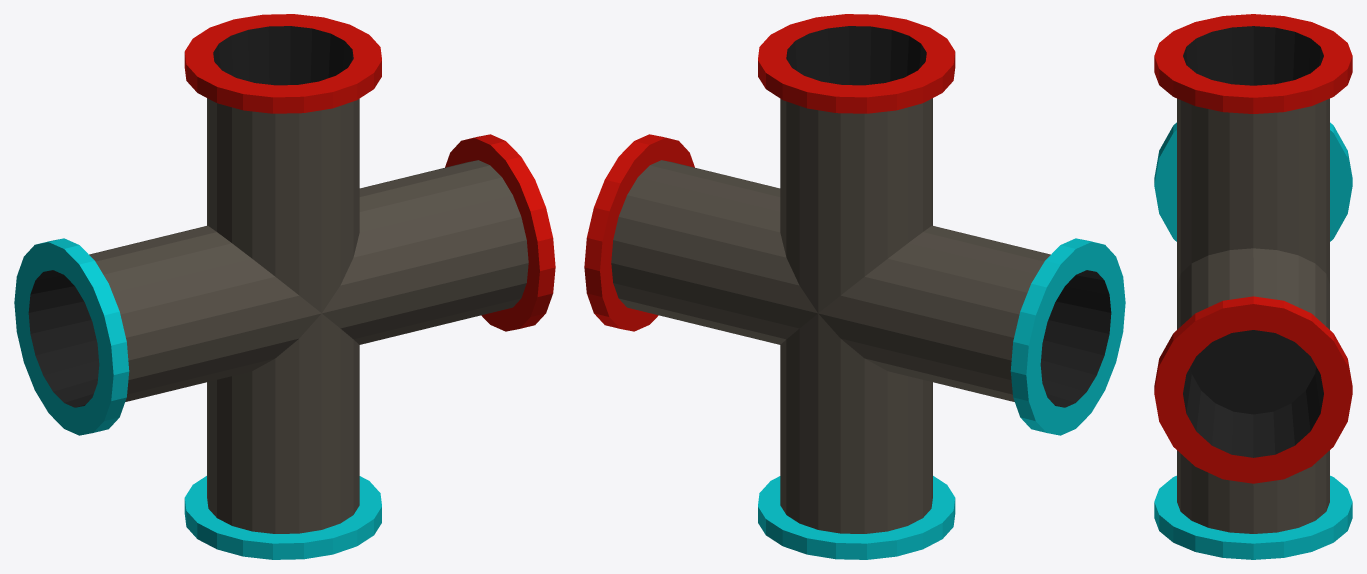
Rendered from PipesCross.fbx.
The picture shows the model from 3 angles, left to right: view 1: azimuth 30°, elevation 25°; view 2: azimuth 150°, elevation 25°; view 3: azimuth 270°, elevation 25°; orthographic projection.
Visible parts, largest first — view 1: DoublePipe; view 2: DoublePipe; view 3: DoublePipe.
Part boxes in pixels (x1,y1,x2,y2): DoublePipe: [14, 14, 555, 559]; DoublePipe: [584, 14, 1125, 559]; DoublePipe: [1154, 14, 1352, 559].
Bounding box in the file's own units: 166 × 166 × 64.46.
